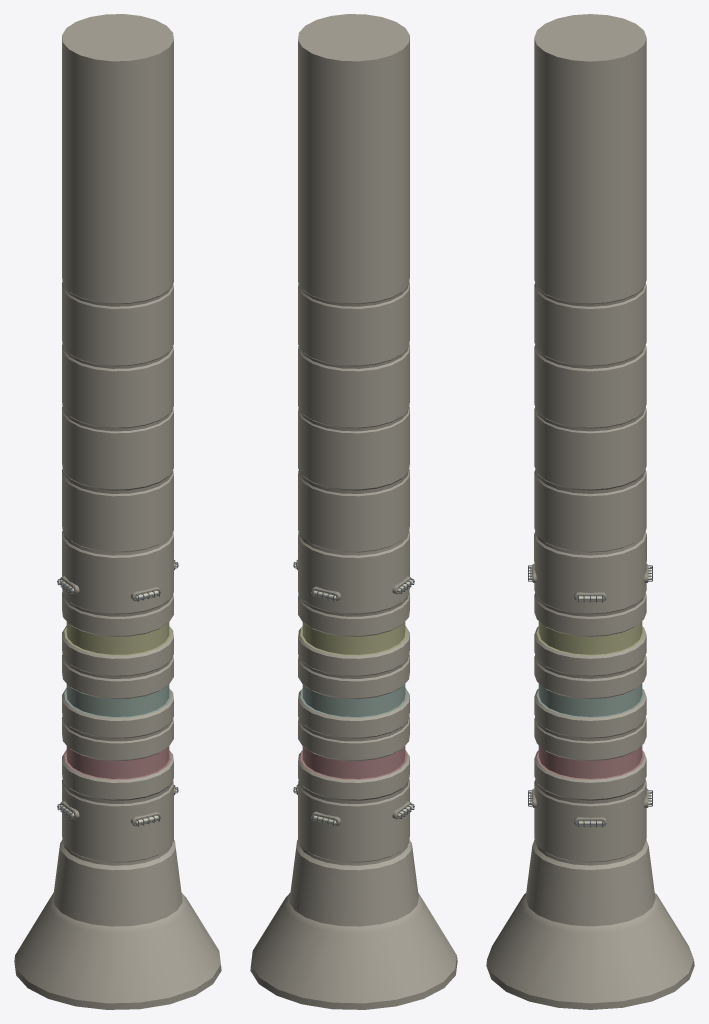
The model's file is Concrete_Pillar.fbx.
The picture shows the model from 3 angles, left to right: view 1: azimuth 30°, elevation 25°; view 2: azimuth 150°, elevation 25°; view 3: azimuth 270°, elevation 25°; orthographic projection.
Visible parts, largest first — view 1: group6_pCylinder11; view 2: group6_pCylinder11; view 3: group6_pCylinder11.
Part boxes in pixels (x1,y1,x2,y2): group6_pCylinder11: (14, 14, 221, 1009); group6_pCylinder11: (250, 14, 457, 1009); group6_pCylinder11: (486, 14, 694, 1009).
Size of the model in its own units: 4.2 by 20.64 by 4.2.
